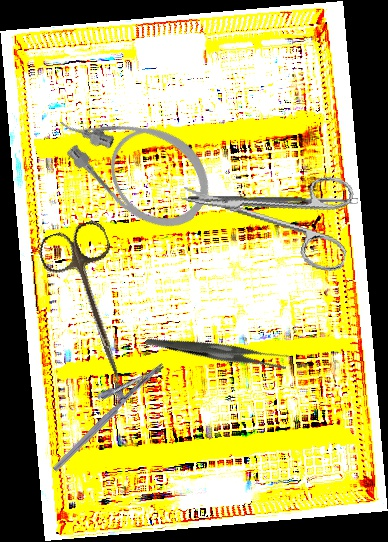Cannula: (41, 74, 227, 247)
Dressing Forceps: (145, 294, 292, 406)
Iris Scissors: (172, 144, 363, 275), (34, 217, 155, 391)
Needle Holder: (37, 347, 166, 473)
Surgical Spoon: (187, 195, 359, 206)
